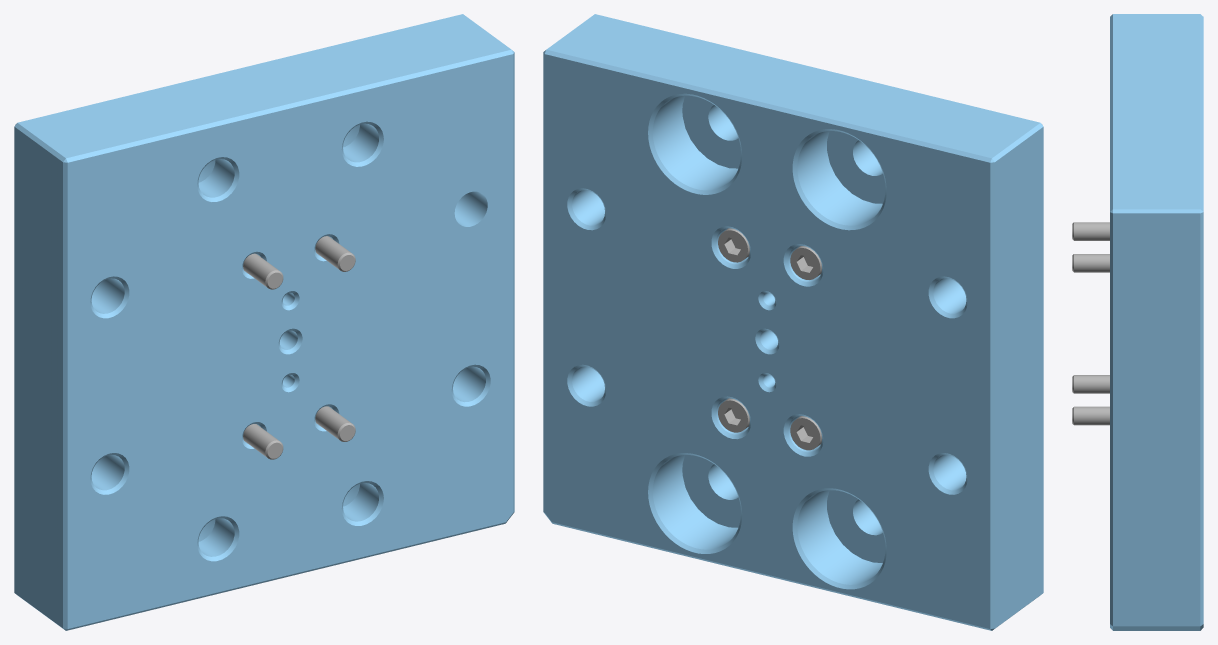
File: u_plate.glb
The picture shows the model from 3 angles, left to right: view 1: azimuth 30°, elevation 25°; view 2: azimuth 150°, elevation 25°; view 3: azimuth 270°, elevation 25°; orthographic projection. The views are drawn at different scales.
Visible parts, largest first — view 1: Button_u_plate_025, Button_shcs_059 (×3), Button_shcs_058; view 2: Button_u_plate_025, Button_shcs_059 (×3), Button_shcs_058; view 3: Button_u_plate_025, Button_shcs_059 (×3), Button_shcs_058.
Boxes of the visible parts, left/top/right/bottom form: Button_u_plate_025: left=14, top=14, right=514, bottom=630; Button_shcs_059 (×3): left=243, top=236, right=355, bottom=459; Button_shcs_058: left=243, top=253, right=283, bottom=289; Button_u_plate_025: left=543, top=14, right=1043, bottom=630; Button_shcs_059 (×3): left=718, top=228, right=822, bottom=450; Button_shcs_058: left=790, top=246, right=822, bottom=279; Button_u_plate_025: left=1110, top=14, right=1203, bottom=630; Button_shcs_059 (×3): left=1072, top=254, right=1109, bottom=425; Button_shcs_058: left=1072, top=222, right=1109, bottom=240.
Size of the model in its own units: 0.15 by 0.15 by 0.042.
